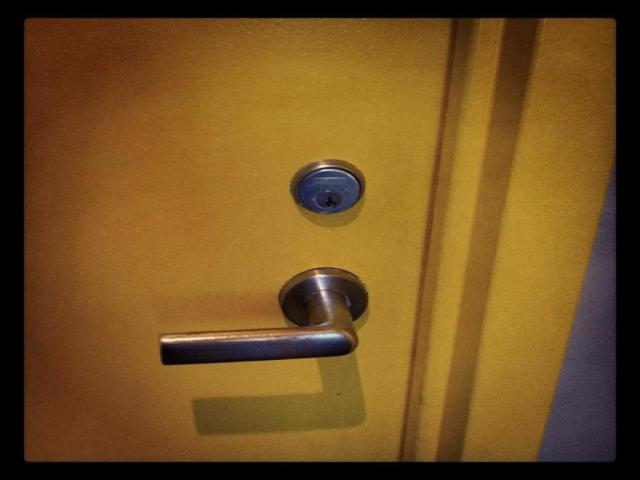Door-handle: (157, 268, 369, 367)
